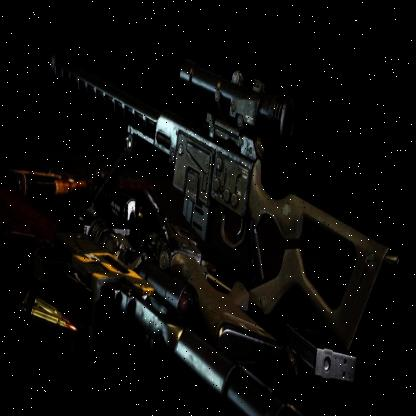rifle: (24, 22, 404, 368)
